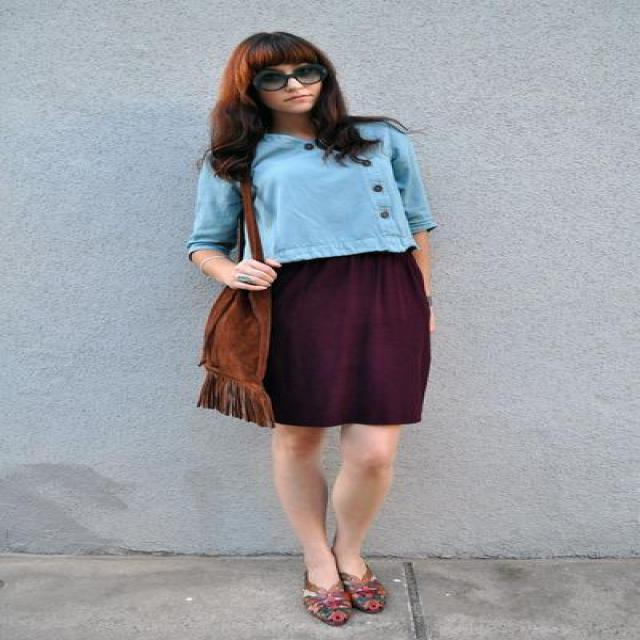bag: (197, 177, 280, 421)
shirt: (168, 108, 435, 263)
shoe: (304, 551, 384, 626)
skirt: (262, 246, 429, 427)
